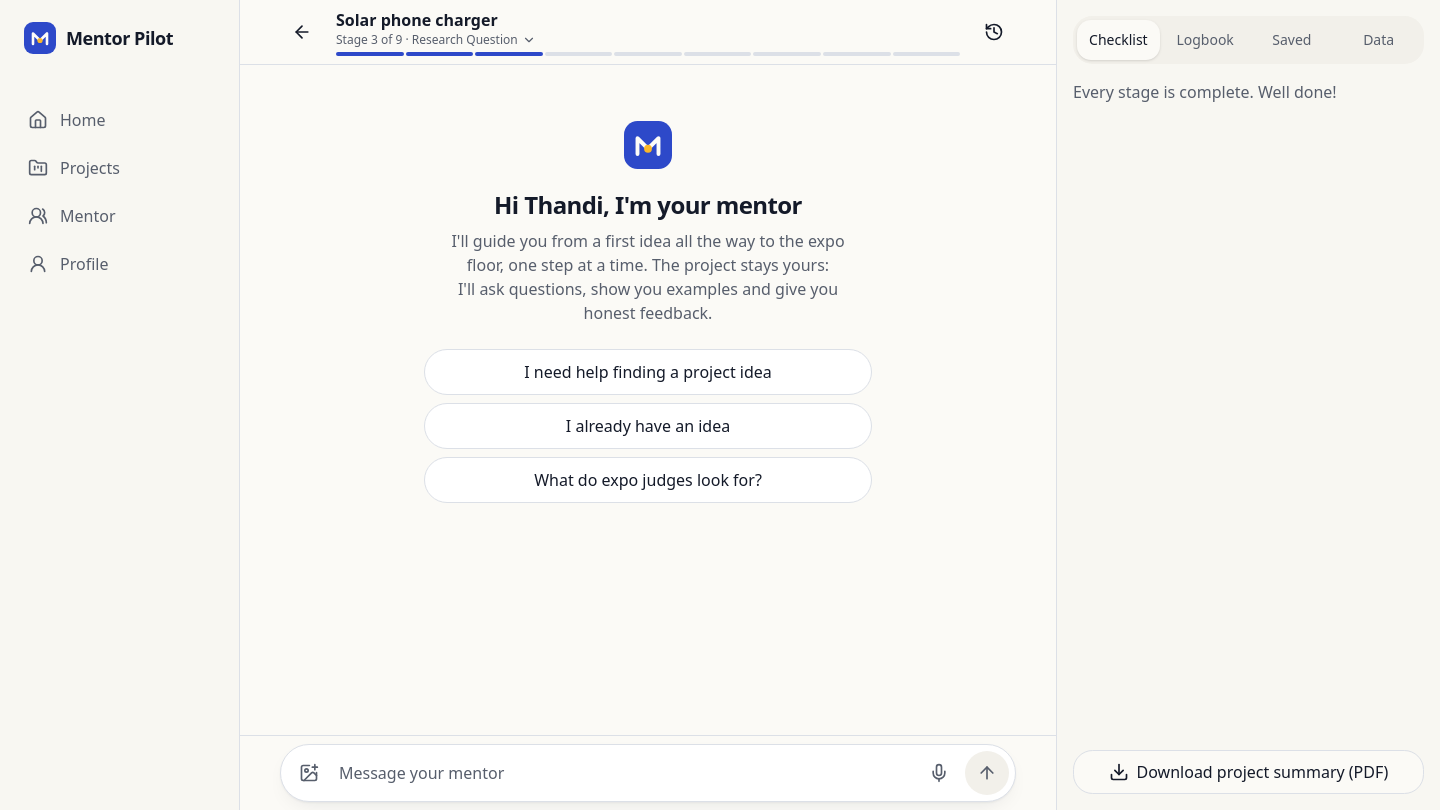
Test case: project workspace › streams a reply into typed blocks and offers the suggested replies
Type "How do LEDs work?" into the text box labelled "Message your mentor" at (624,773), box left=335, top=751, right=913, bottom=795
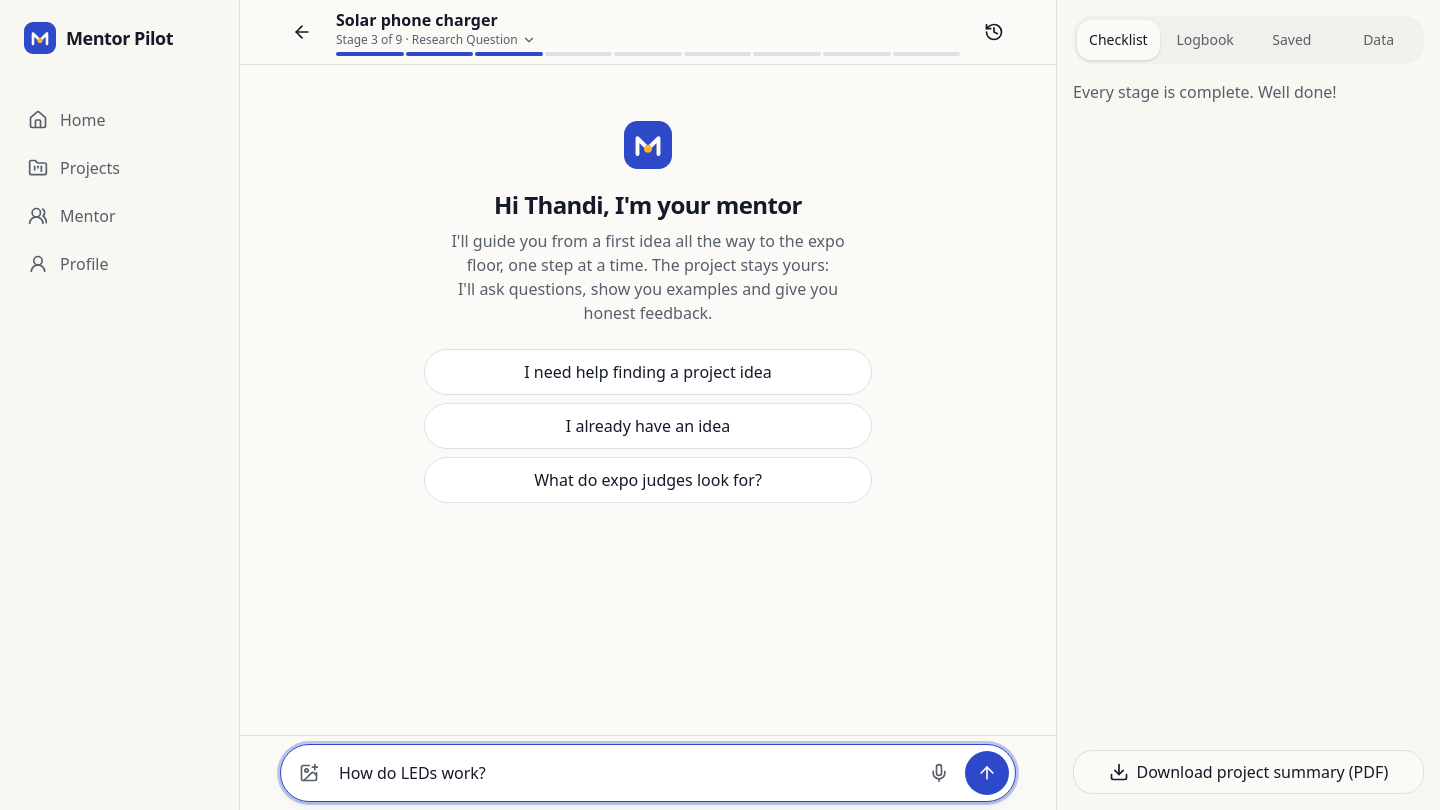
Click the button named "Send message" at (987,773), box left=965, top=751, right=1009, bottom=795
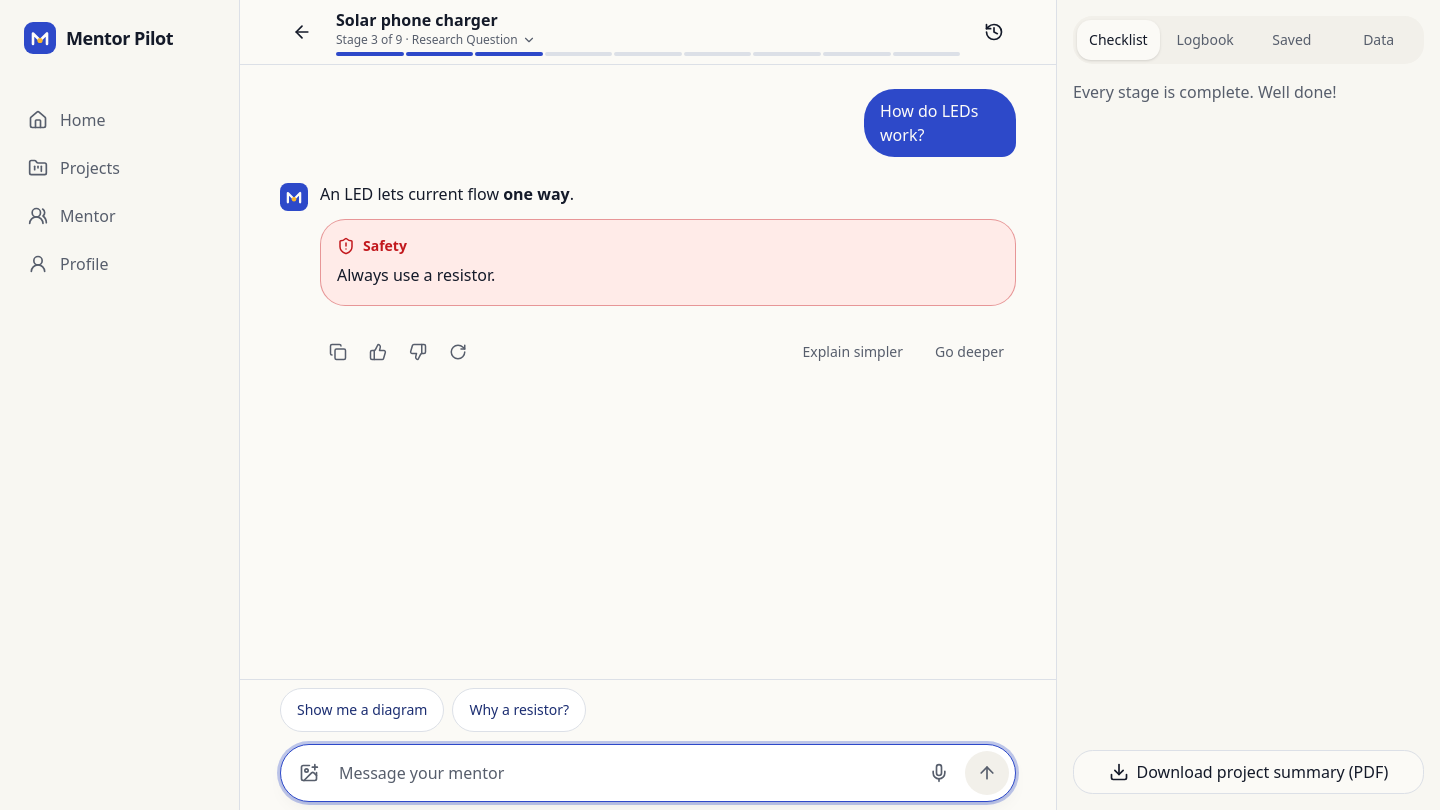
Expected: the text "How do LEDs work?" is shown, left=864, top=89, right=1016, bottom=157
Expected: the text "Safety" is shown, left=337, top=236, right=407, bottom=255
Expected: the text "Always use a resistor." is shown, left=337, top=264, right=495, bottom=286
